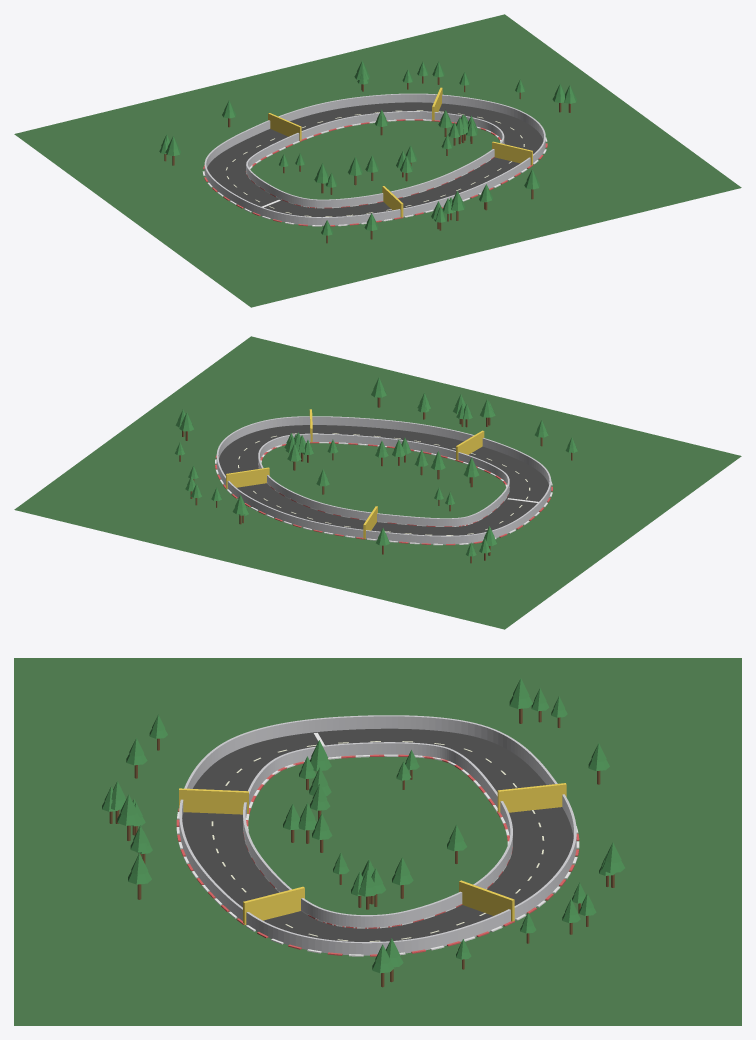
The model's file is racetrack_arcade_v2.glb.
The picture shows the model from 3 angles, top to bottom: view 1: azimuth 30°, elevation 25°; view 2: azimuth 150°, elevation 25°; view 3: azimuth 270°, elevation 25°; orthographic projection. The views are drawn at different scales.
Parts seen in each view (by area): view 1: Ground, Road, RightWall, LeftWall, Checkpoint_02, Checkpoint_04; view 2: Ground, Road, RightWall, LeftWall, Checkpoint_03; view 3: Ground, Road, RightWall, LeftWall, Checkpoint_01, Checkpoint_04, Checkpoint_02, Checkpoint_03.
Part boxes in pixels (bbox=[...]): Ground: bbox=[14, 14, 741, 307]; Road: bbox=[207, 102, 543, 217]; RightWall: bbox=[204, 93, 545, 225]; LeftWall: bbox=[246, 111, 504, 207]; Checkpoint_02: bbox=[492, 141, 532, 165]; Checkpoint_04: bbox=[268, 113, 301, 140]; Ground: bbox=[14, 336, 741, 629]; Road: bbox=[219, 425, 548, 535]; RightWall: bbox=[216, 416, 551, 544]; LeftWall: bbox=[258, 433, 509, 526]; Checkpoint_03: bbox=[226, 467, 269, 488]; Ground: bbox=[14, 658, 741, 1025]; Road: bbox=[182, 728, 573, 941]; RightWall: bbox=[179, 715, 576, 955]; LeftWall: bbox=[243, 742, 512, 927]; Checkpoint_01: bbox=[179, 788, 248, 814]; Checkpoint_04: bbox=[497, 783, 566, 812]; Checkpoint_02: bbox=[243, 886, 304, 924]; Checkpoint_03: bbox=[459, 880, 514, 921].
Size of the model in its own units: 114 by 6.75 by 95.37.
